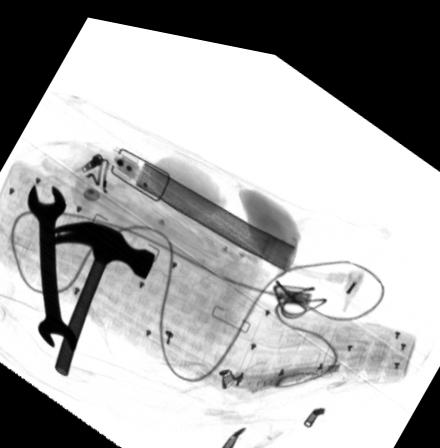Hammer: (45, 215, 156, 374)
Wrench: (27, 180, 75, 349)
